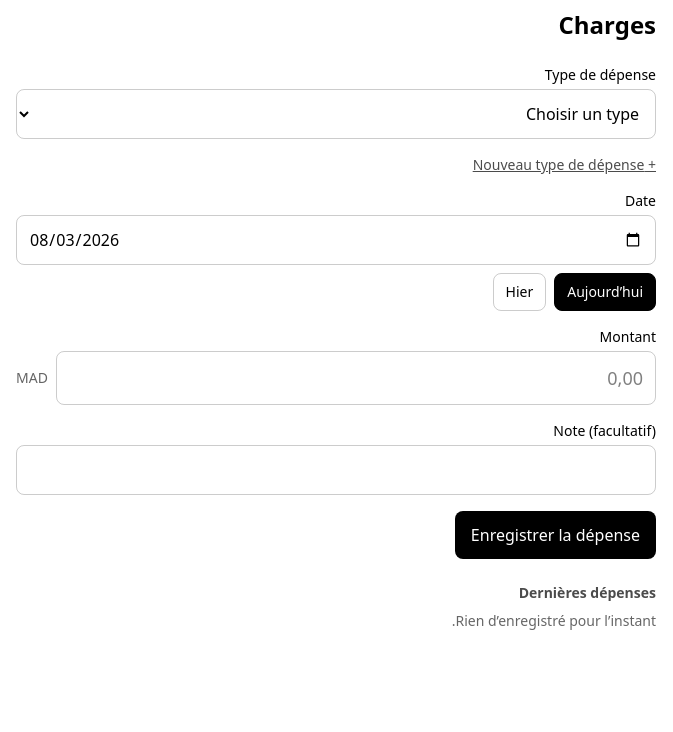
it: creates a category inline, in plain language, and selects it
Click the button "+ Nouveau type de dépense" at (564, 165), box [473,155,656,175]
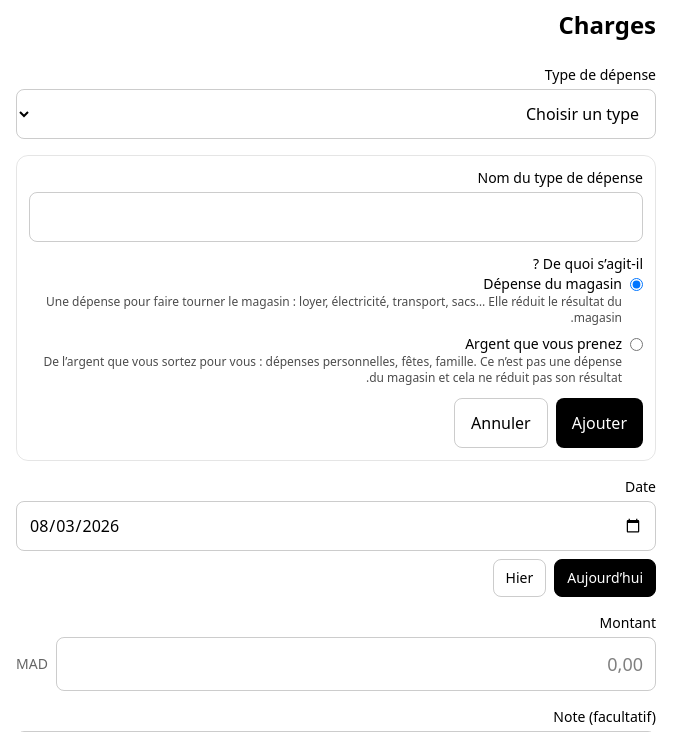
Expected: the text "loyer, électricité, transport" is shown, [46,293,622,326]
Expected: the text "Ce n’est pas une dépense du magasin" is shown, [44,353,622,386]
Type "Mariage" into the field labelled "Nom du type de dépense" at (336, 217), box [29,192,643,242]
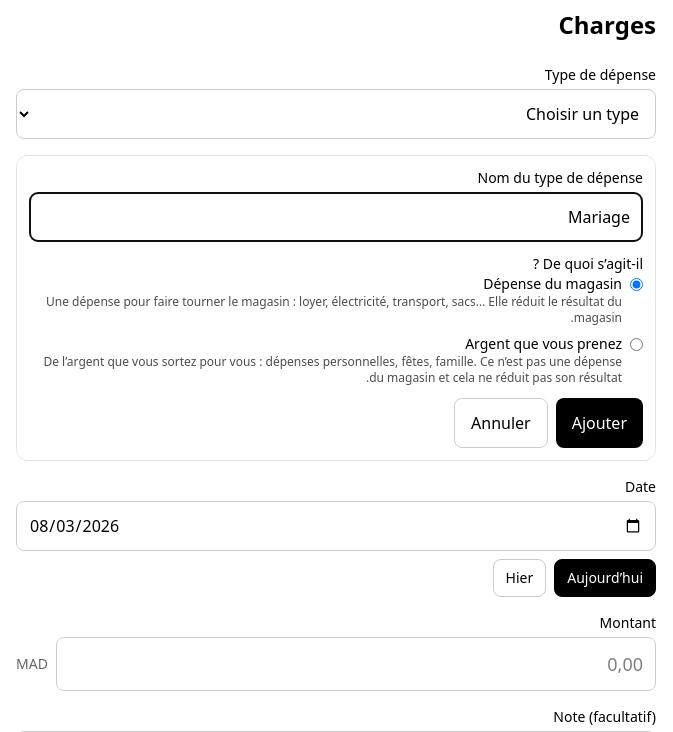
Click the radio button labelled "Argent que vous prenez" at (636, 344), box [630,338,643,351]
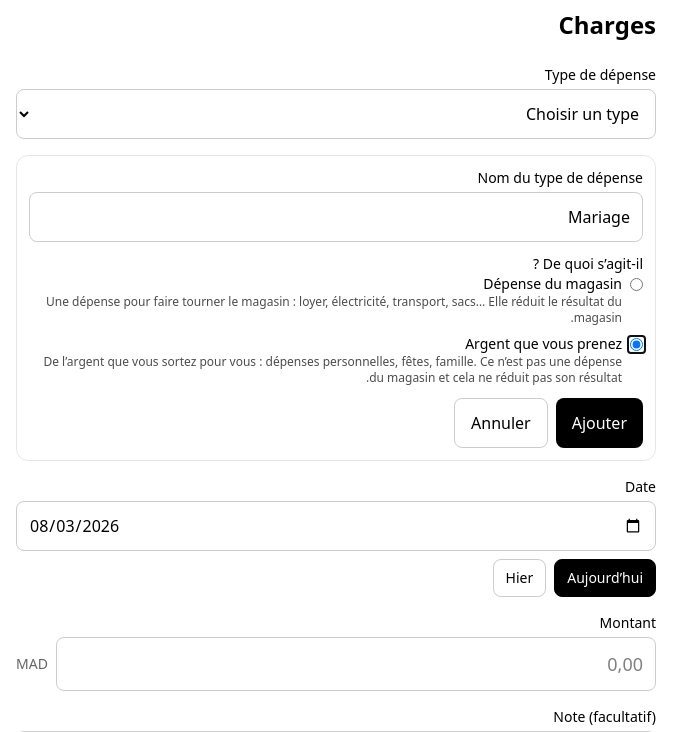
Click the button "Ajouter" at (599, 423), box [556,398,643,448]
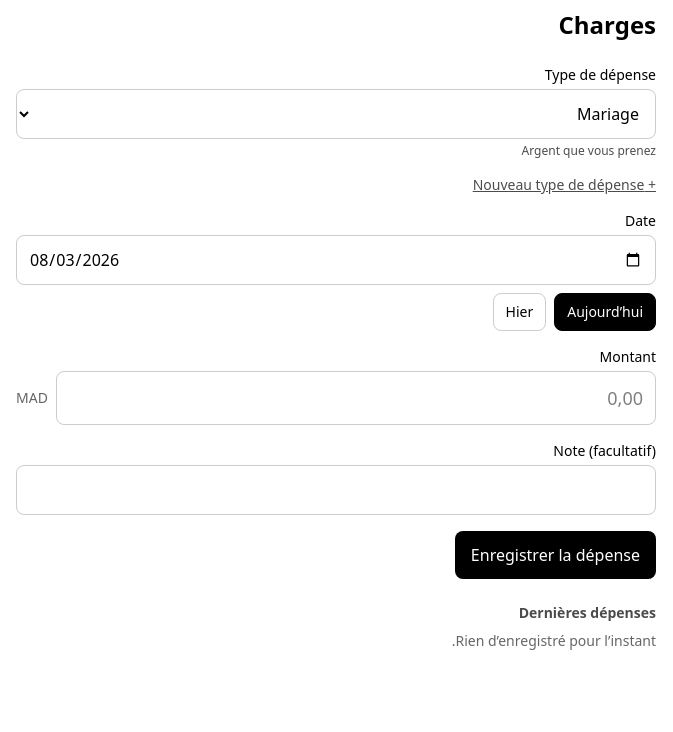
Expected: the dropdown labelled "Type de dépense" shows "Mariage", [16,89,656,139]
